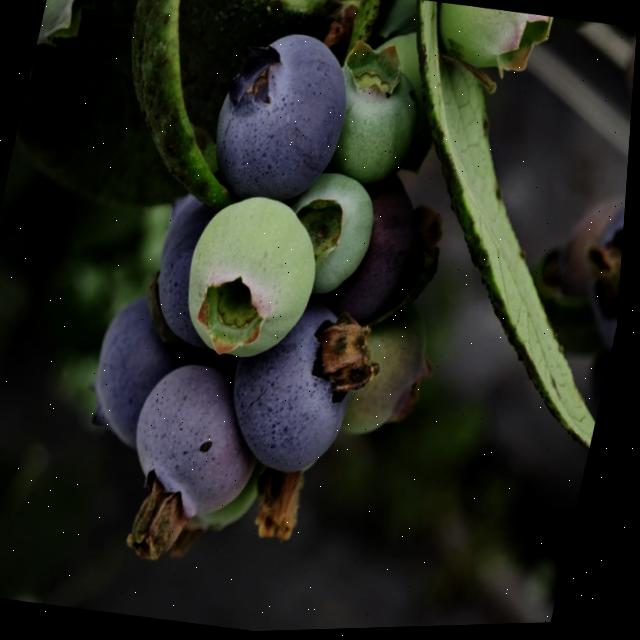RipeBlueBerry: (218, 294, 381, 489), (121, 354, 285, 537), (207, 26, 364, 209), (84, 294, 197, 455)
UnripeBlueBerry: (178, 188, 334, 369), (319, 41, 438, 194), (278, 166, 388, 307)
